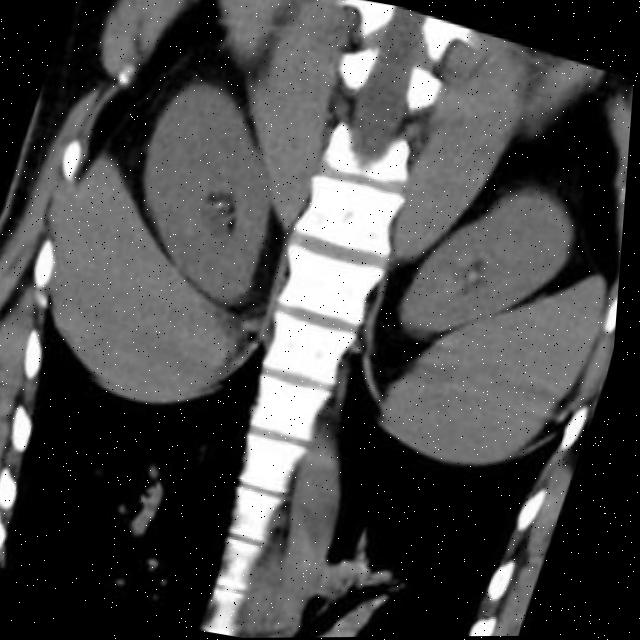Tas_Var: (212, 196, 234, 219)
